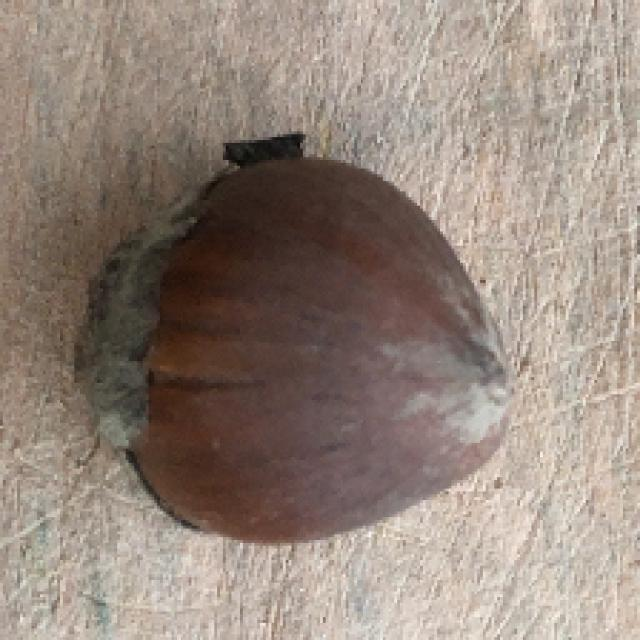damagedHazelnut: (66, 136, 516, 554)
